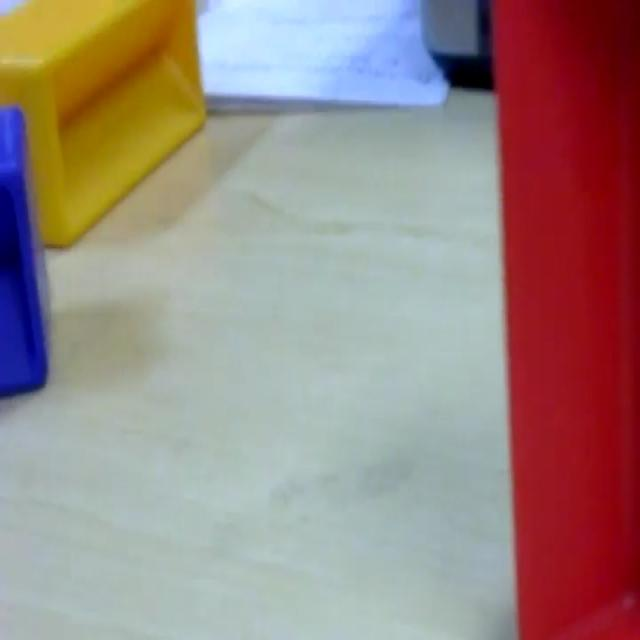blue_block: (0, 103, 52, 397)
red_block: (488, 0, 638, 636)
yellow_block: (1, 0, 206, 248)
